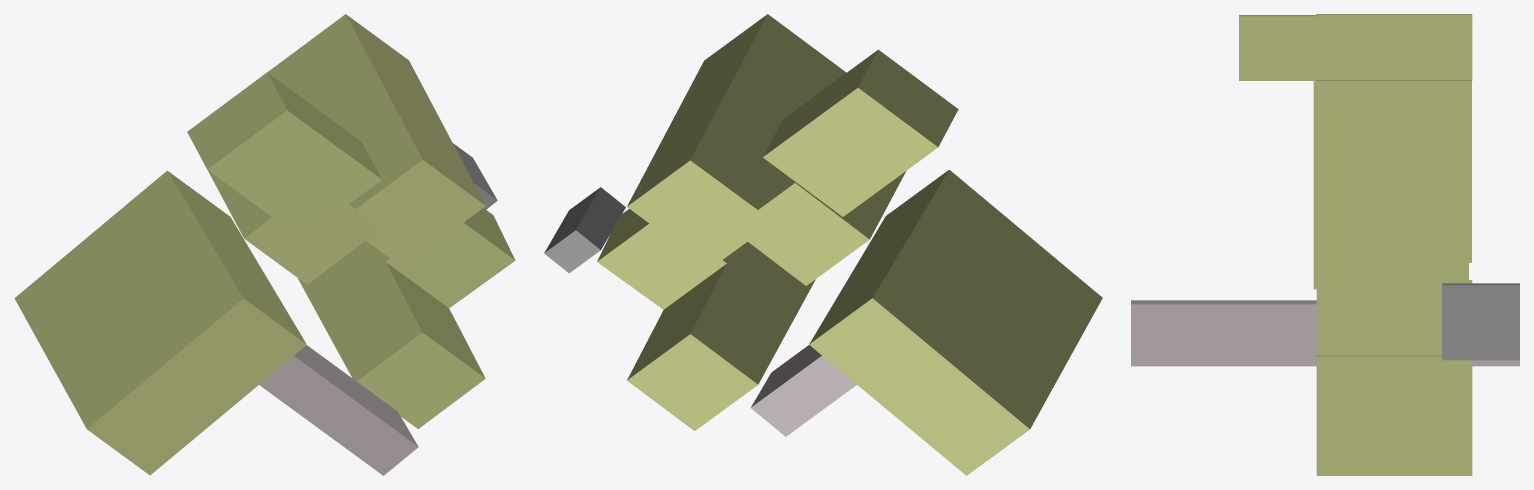
The picture shows the model from 3 angles, left to right: view 1: azimuth 30°, elevation 25°; view 2: azimuth 150°, elevation 25°; view 3: azimuth 270°, elevation 25°; orthographic projection. The views are drawn at different scales.
Parts seen in each view (by area): view 1: 0_1_1_3_2_2_3_1_0_3; view 2: 0_1_1_3_2_2_3_1_0_3; view 3: 0_1_1_3_2_2_3_1_0_3.
Part boxes in pixels (left/top/right/bottom): 0_1_1_3_2_2_3_1_0_3: left=14, top=14, right=515, bottom=475; 0_1_1_3_2_2_3_1_0_3: left=544, top=14, right=1102, bottom=475; 0_1_1_3_2_2_3_1_0_3: left=1131, top=14, right=1519, bottom=475.
Bounding box in the file's own units: 25.87 × 19.43 × 15.
